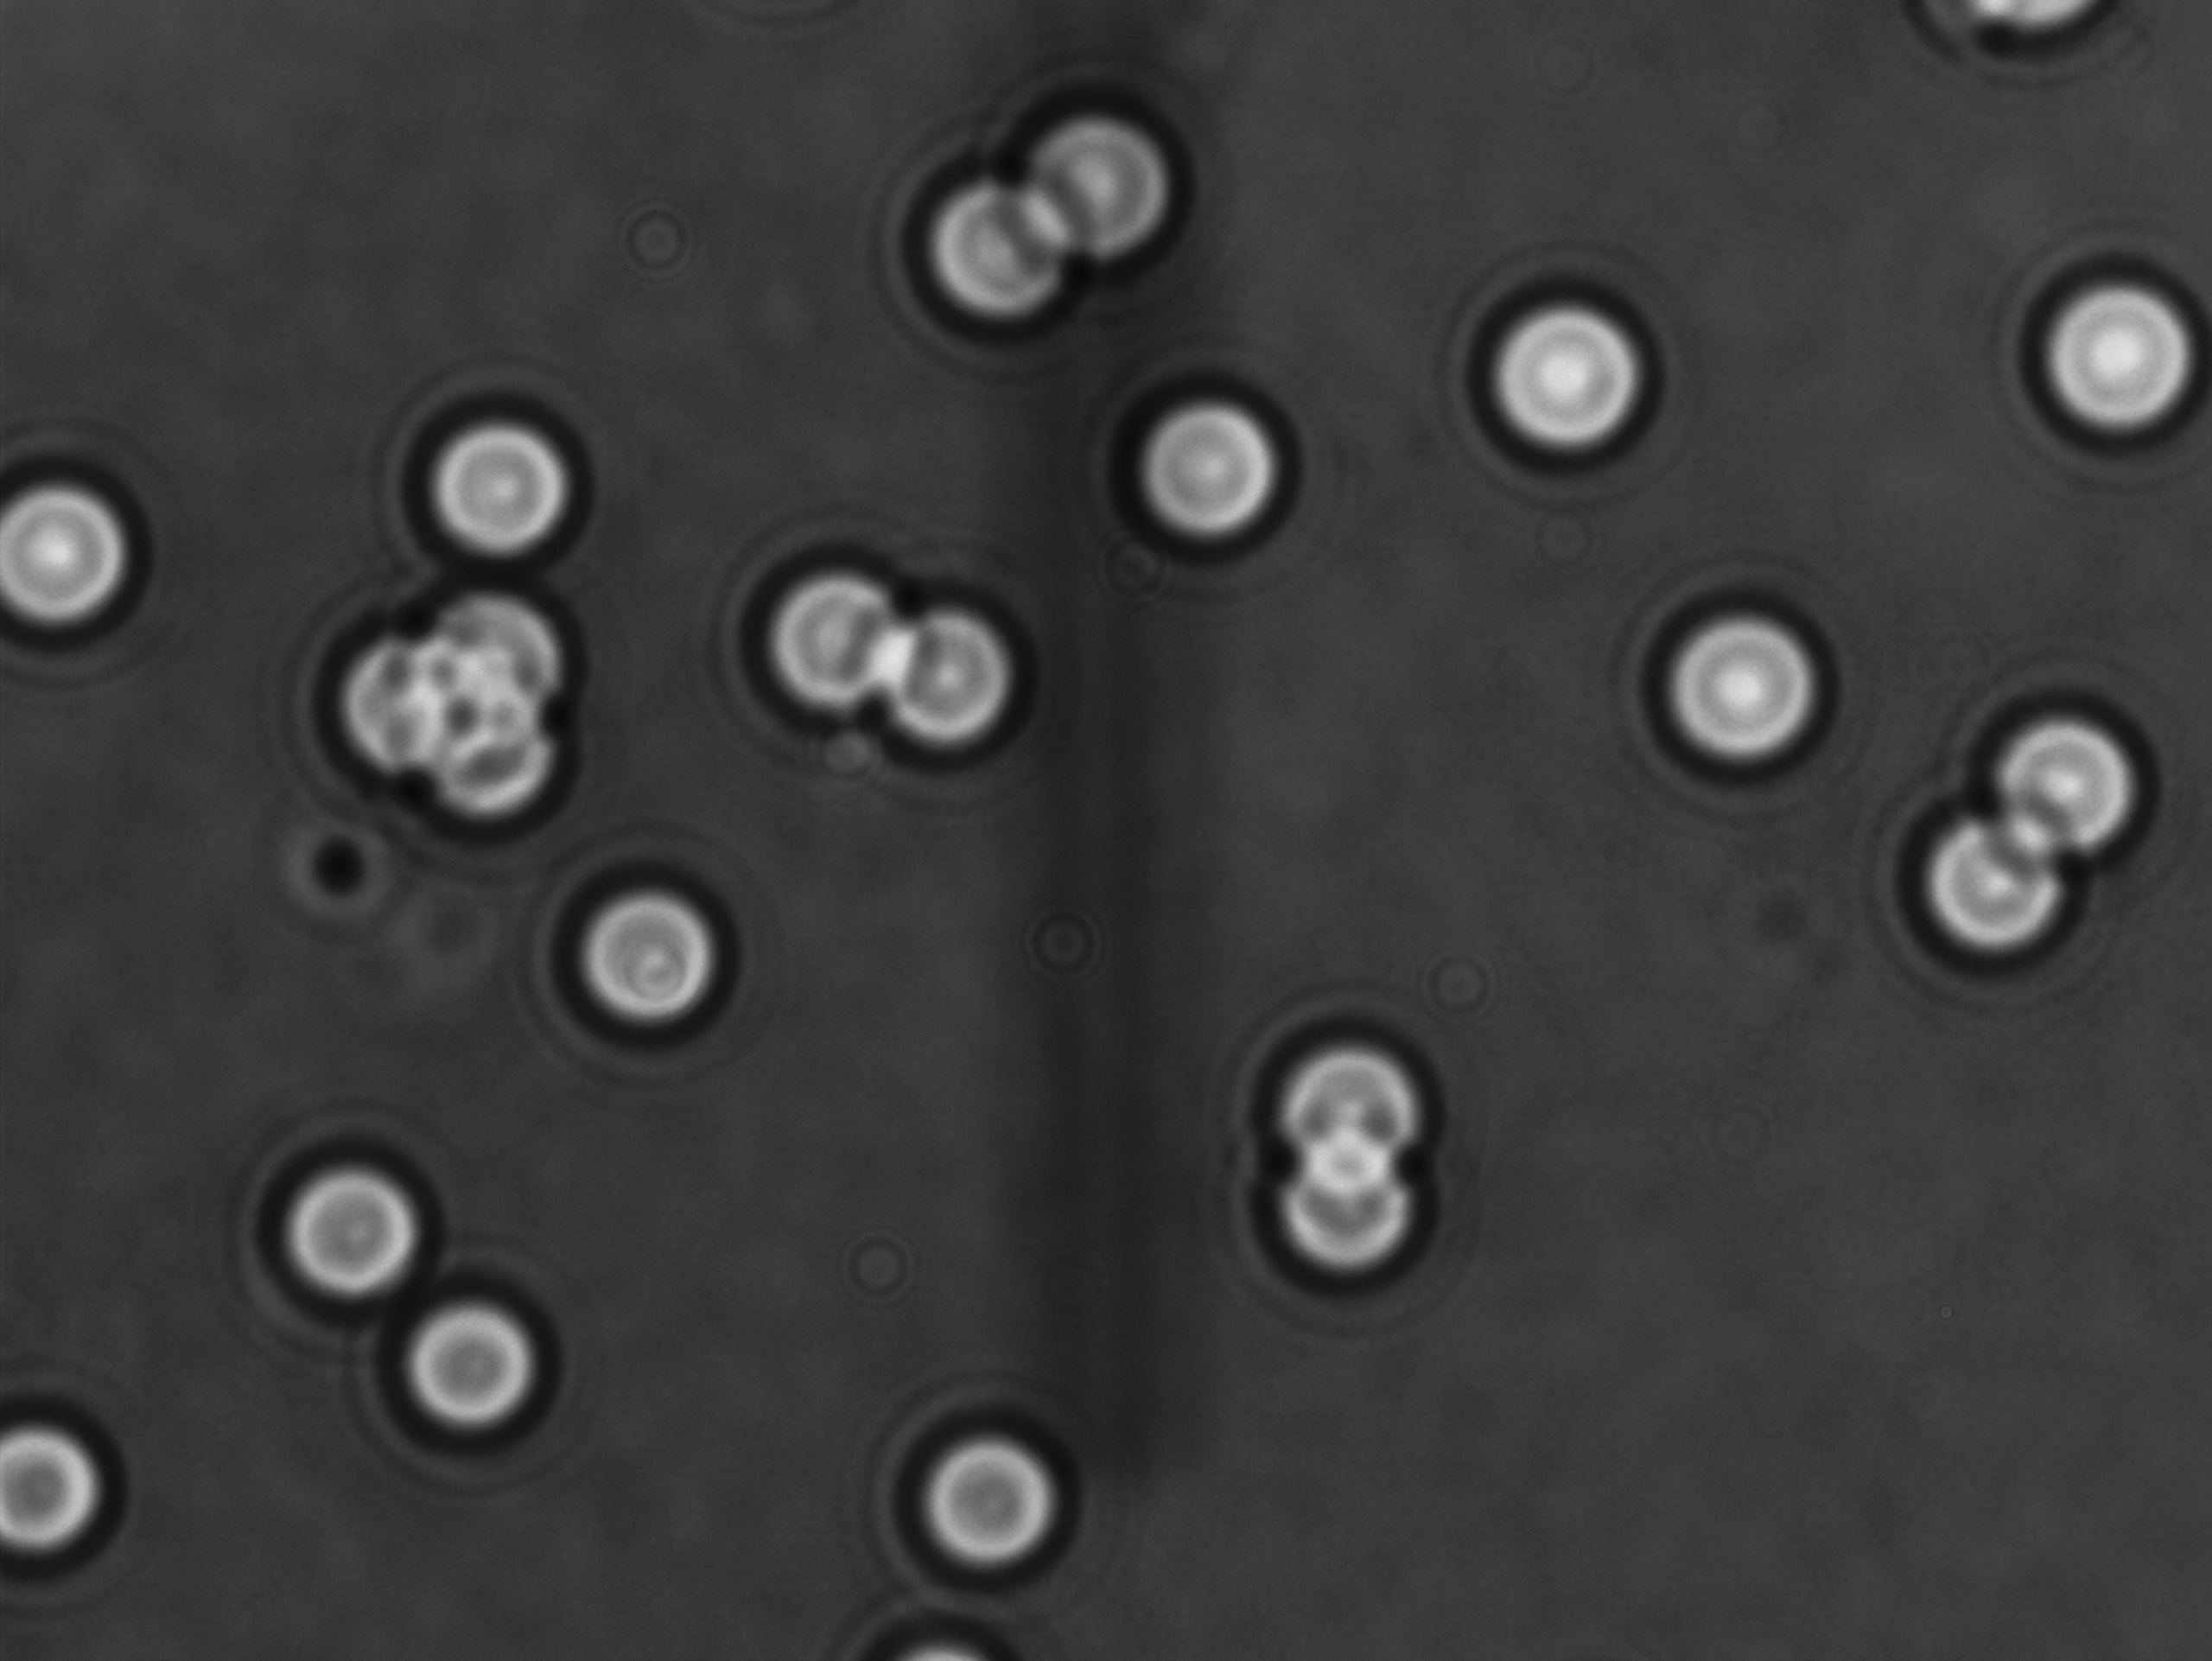depth:60: (1441, 248, 1697, 487), (1959, 665, 2179, 886), (1882, 797, 2111, 1010), (1626, 567, 1839, 782), (525, 850, 748, 1054), (1113, 361, 1322, 572), (993, 68, 1204, 277), (1242, 1001, 1451, 1209), (387, 373, 605, 572), (2020, 237, 2212, 462), (877, 138, 1075, 354), (1240, 1113, 1446, 1309), (883, 1408, 1094, 1595), (736, 539, 930, 731), (249, 1129, 438, 1324), (372, 1261, 563, 1452), (867, 581, 1061, 769)
